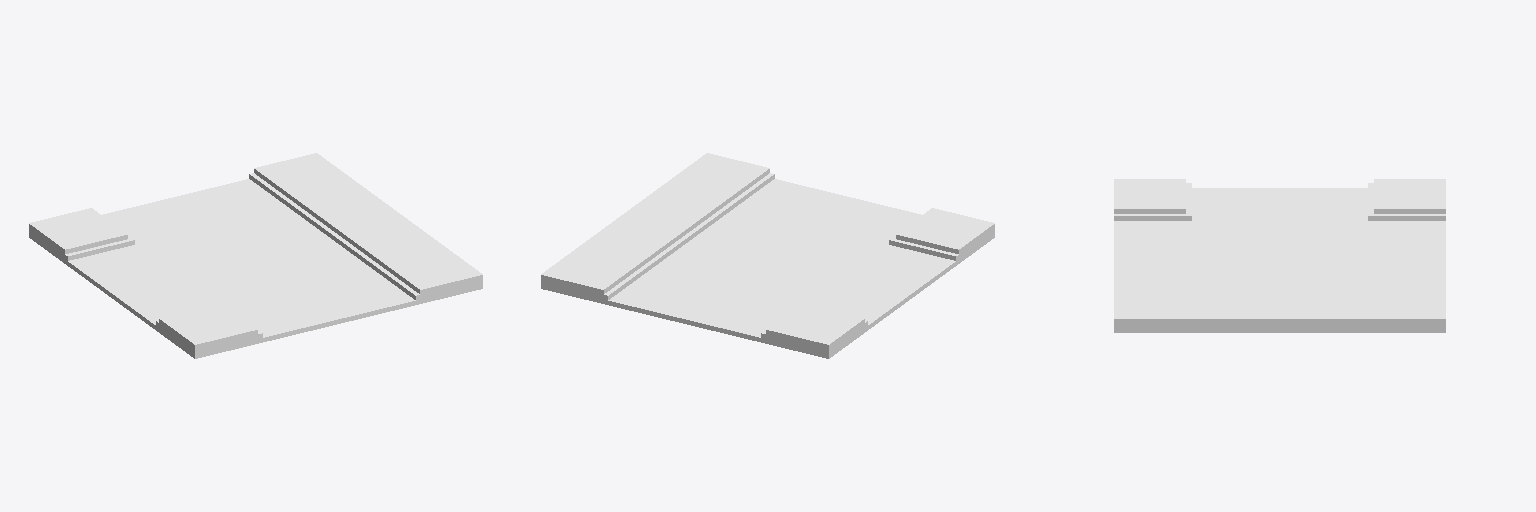
Rendered from road_intersection_3.obj.
3 renders of one model, left to right at view 1: azimuth 30°, elevation 25°; view 2: azimuth 150°, elevation 25°; view 3: azimuth 270°, elevation 25°, orthographic.
Visible parts, largest first — view 1: object 1; view 2: object 1; view 3: object 1.
Part boxes in pixels (x1,y1,x2,y2): object 1: (29, 153, 482, 358); object 1: (541, 153, 994, 358); object 1: (1114, 179, 1445, 332).
Bounding box in the file's own units: 6.4 × 0.3 × 6.4.